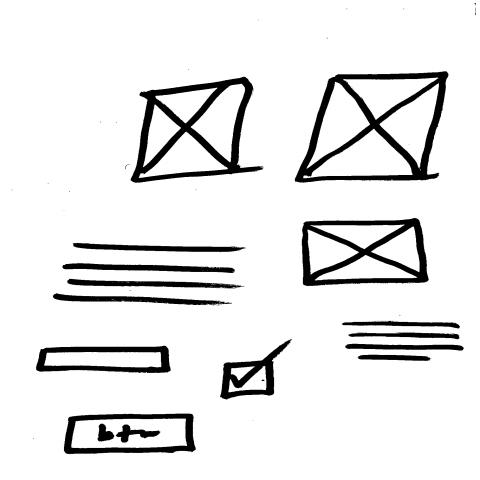Button: (61, 412, 197, 458)
Image: (295, 72, 452, 184), (130, 78, 257, 186), (301, 218, 432, 289)
Paragraph: (49, 240, 247, 308), (342, 320, 466, 364)
Textbox: (34, 345, 174, 376)
